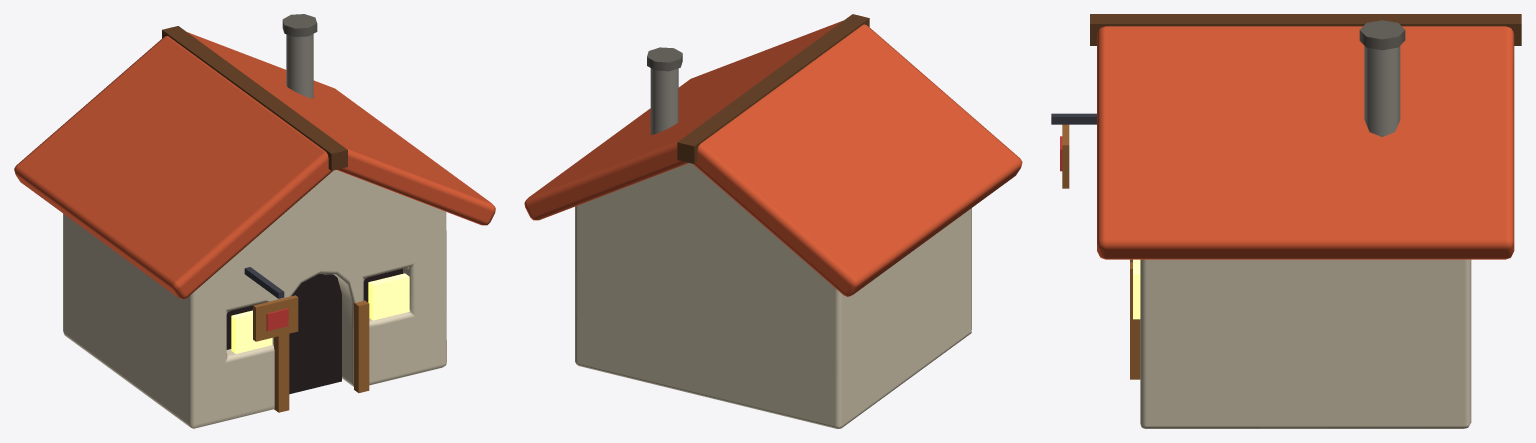
File: Buildings__tavern.glb
The picture shows the model from 3 angles, left to right: view 1: azimuth 30°, elevation 25°; view 2: azimuth 150°, elevation 25°; view 3: azimuth 270°, elevation 25°; orthographic projection. The views are drawn at different scales.
Visible parts, largest first — view 1: tavern_mesh; view 2: tavern_mesh; view 3: tavern_mesh.
Boxes of the visible parts, x1=… form: tavern_mesh: x1=14, y1=14, x2=495, y2=428; tavern_mesh: x1=524, y1=14, x2=1022, y2=428; tavern_mesh: x1=1051, y1=14, x2=1521, y2=428.
Bounding box in the file's own units: 1.98 × 1.69 × 1.96.
